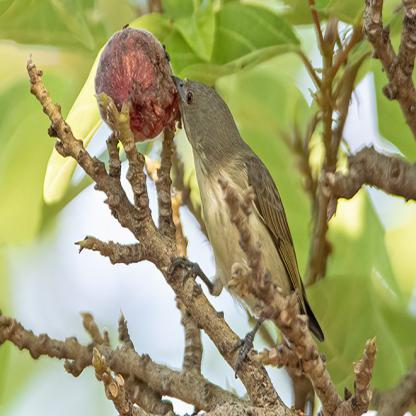Burung: (167, 74, 321, 362)
